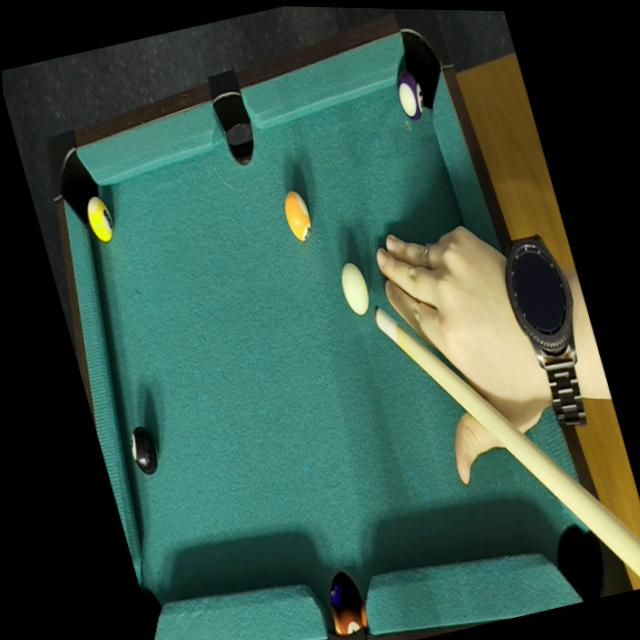cue ball: (334, 255, 378, 321)
other: (122, 417, 166, 483), (389, 62, 432, 125), (278, 185, 321, 248), (81, 190, 121, 248)
